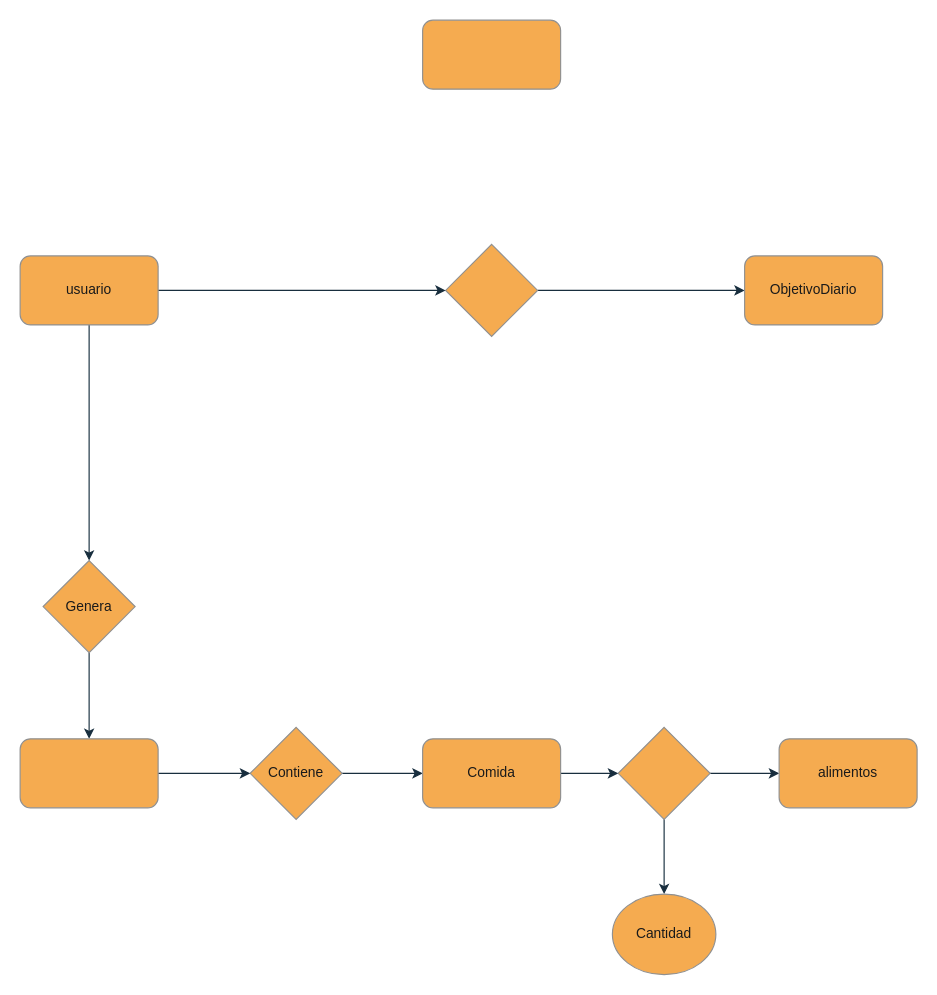
The diagram is 937 pixels wide and 995 high, and some of its shapes have lost their labels. The centre of each missing label's shape, as x and y in pixels:
"Dieta" goes at pixel 491 54.
"registro_diario" goes at pixel 88 773.
"se compone" goes at pixel 663 772.
"Tiene" goes at pixel 491 289.
